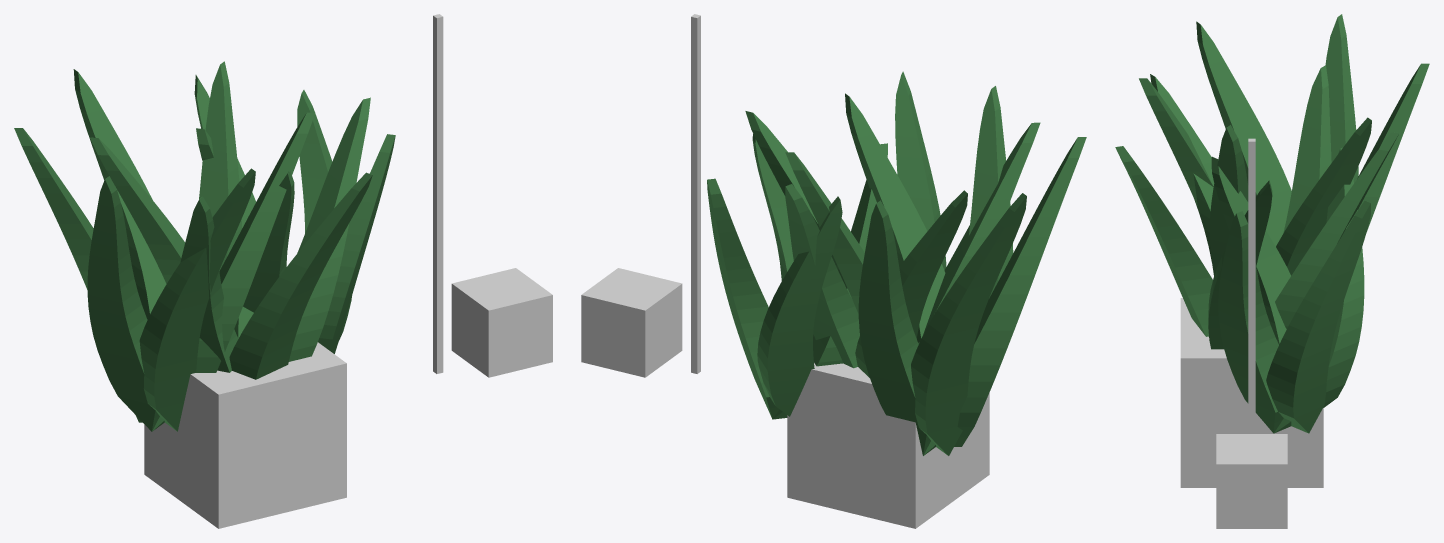
File: Kelp3_LOD0_roblox.fbx
The picture shows the model from 3 angles, left to right: view 1: azimuth 30°, elevation 25°; view 2: azimuth 150°, elevation 25°; view 3: azimuth 270°, elevation 25°; orthographic projection. The views are drawn at different scales.
Parts seen in each view (by area): view 1: Kelp_GreenMat, Ref_Head, 1_Stud_Cube, 5.3_Stud_Height_Ruler; view 2: Kelp_GreenMat, Ref_Head, 1_Stud_Cube, 5.3_Stud_Height_Ruler; view 3: Kelp_GreenMat, Ref_Head, 1_Stud_Cube, 5.3_Stud_Height_Ruler.
Part boxes in pixels (x1,y1,x2,y2): Kelp_GreenMat: (14,61,395,431); Ref_Head: (144,342,346,528); 1_Stud_Cube: (451,268,552,377); 5.3_Stud_Height_Ruler: (433,14,443,373); Kelp_GreenMat: (707,71,1086,455); Ref_Head: (787,363,989,528); 1_Stud_Cube: (581,268,682,377); 5.3_Stud_Height_Ruler: (691,14,700,373); Kelp_GreenMat: (1115,14,1429,433); Ref_Head: (1180,298,1323,487); 1_Stud_Cube: (1216,434,1287,528); 5.3_Stud_Height_Ruler: (1248,138,1255,433).
Size of the model in its own units: 7.38 by 4.4 by 6.3.
